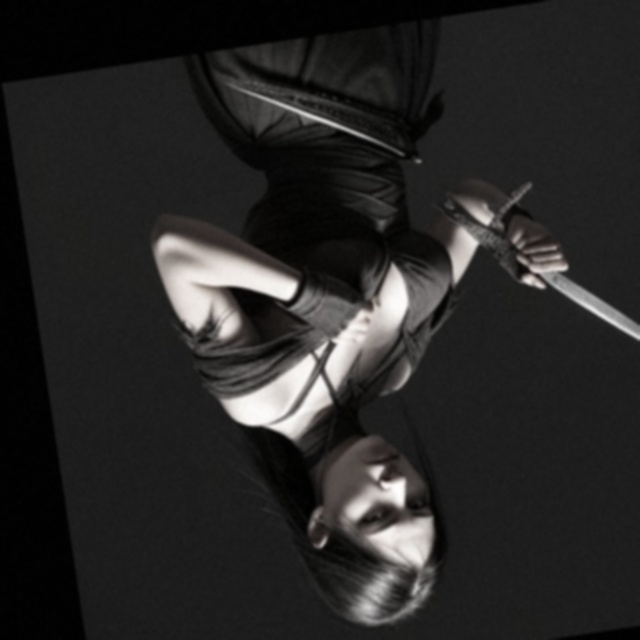Sharp-Object: (502, 218, 640, 384)
